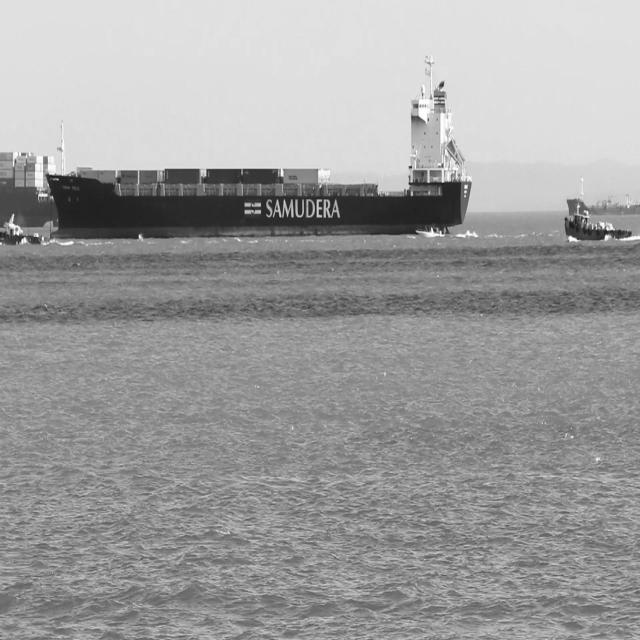ship: (49, 49, 476, 239), (0, 148, 59, 228), (566, 177, 640, 214), (564, 212, 632, 241), (0, 212, 46, 248), (416, 223, 448, 239)
